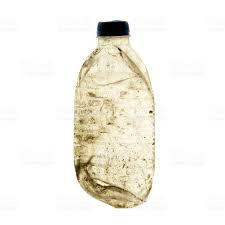Plastic: (74, 10, 159, 209)
